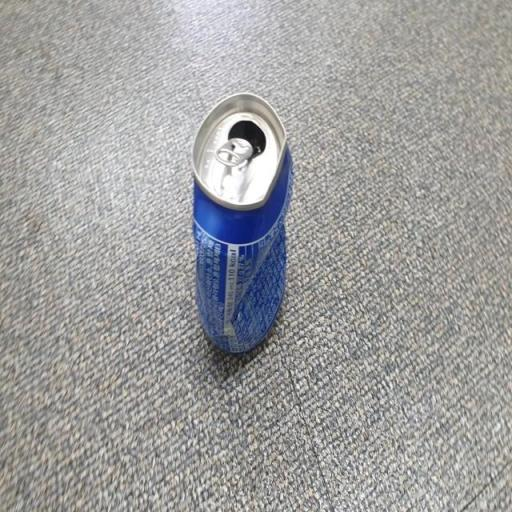metal: (165, 81, 345, 392)
